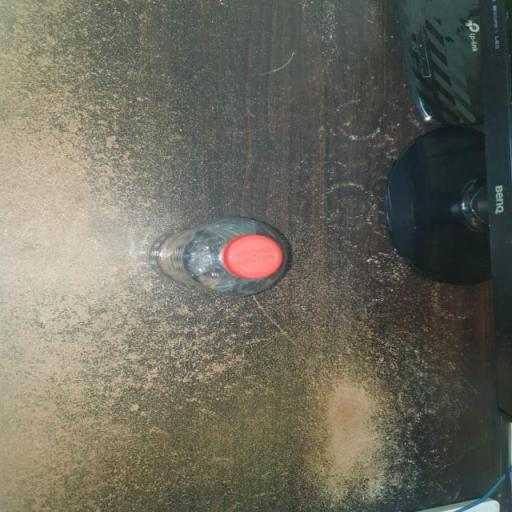plastic: (146, 212, 316, 318)
